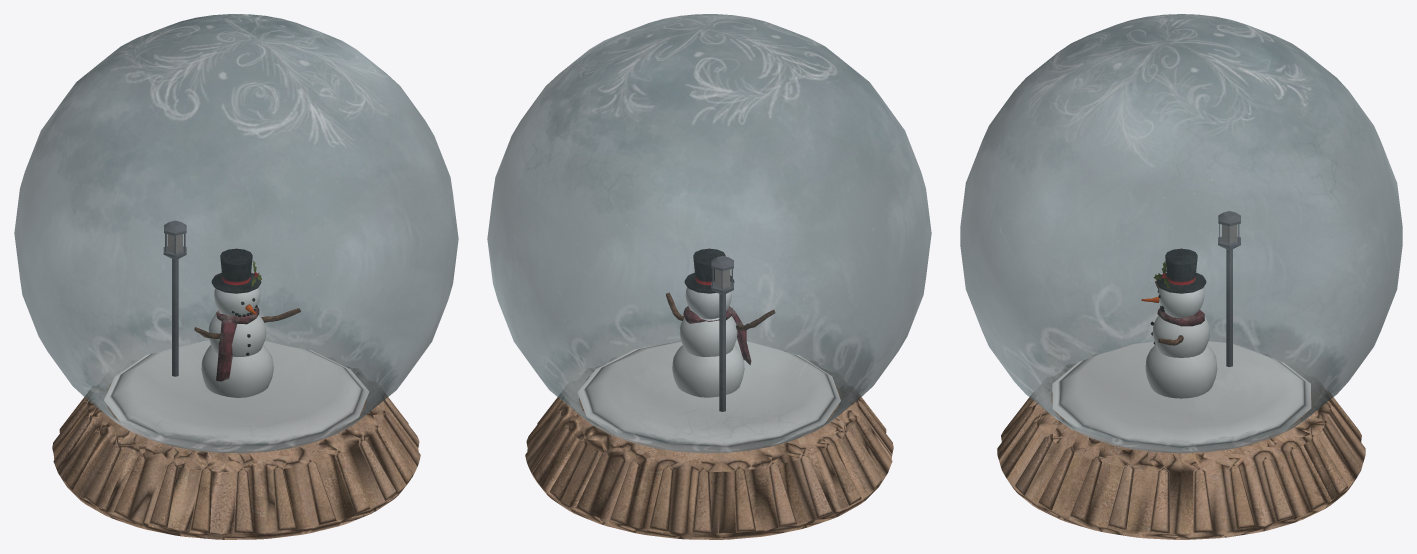
Rendered from snow_globe.gltf.
3 views of the same model, side by side, from view 1: azimuth 30°, elevation 25°; view 2: azimuth 150°, elevation 25°; view 3: azimuth 270°, elevation 25° (orthographic).
Visible parts, largest first — view 1: merge1_0, lantern_Geo1; view 2: merge1_0, lantern_Geo1; view 3: merge1_0, lantern_Geo1.
Part boxes in pixels (x1,y1,x2,y2): merge1_0: [14, 14, 458, 539]; lantern_Geo1: [104, 220, 368, 451]; merge1_0: [487, 14, 931, 539]; lantern_Geo1: [577, 248, 840, 450]; merge1_0: [960, 14, 1402, 539]; lantern_Geo1: [1052, 211, 1311, 450].
Size of the model in its own units: 1.87 by 2 by 1.86.
Materials: 2 (2 with a texture image).
